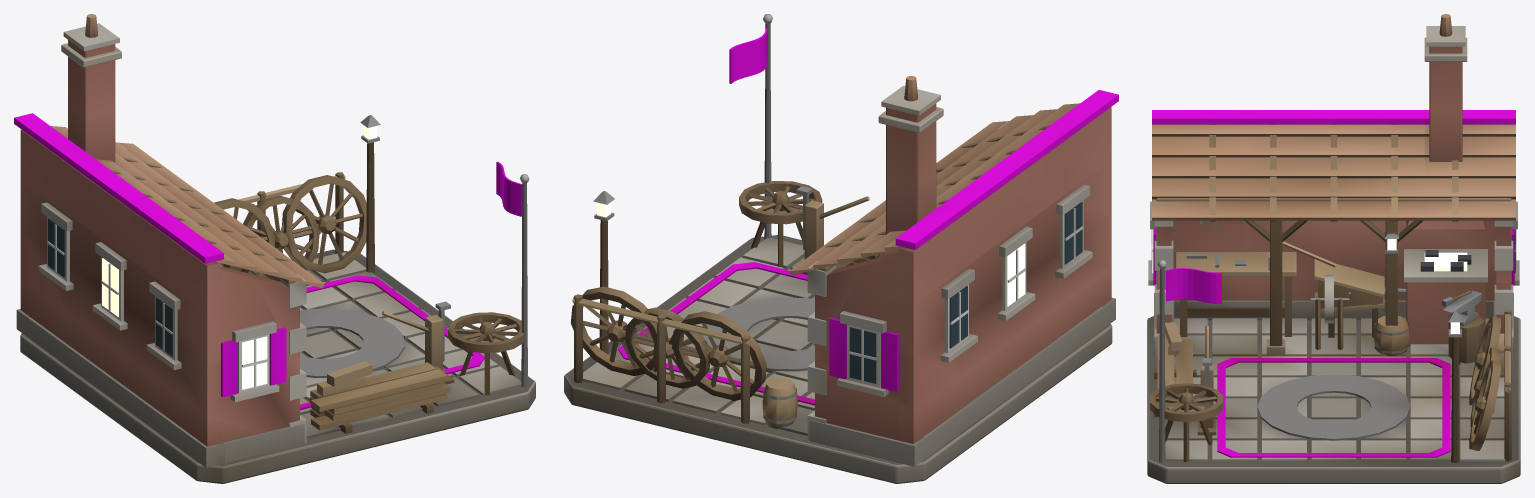
Rendered from repair_bay_gunpowder.glb.
3 renders of one model, left to right at view 1: azimuth 30°, elevation 25°; view 2: azimuth 150°, elevation 25°; view 3: azimuth 270°, elevation 25°, orthographic. The views are drawn at different scales.
Parts seen in each view (by area): view 1: Body; view 2: Body; view 3: Body.
Boxes of the visible parts, box(x1,y1,x2,y2) form: Body: box(14, 14, 535, 483); Body: box(564, 14, 1118, 483); Body: box(1147, 14, 1520, 483).
Bounding box in the file's own units: 4.02 × 3.91 × 4.
1 material, 1 textured.
